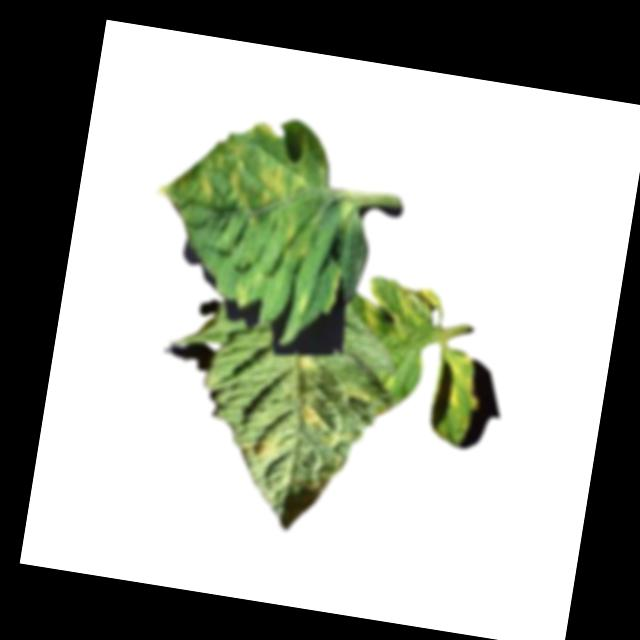Leaf_Mold: (148, 107, 328, 260), (359, 274, 452, 345), (427, 344, 484, 444), (239, 431, 285, 465), (294, 402, 338, 435), (295, 355, 320, 375)
